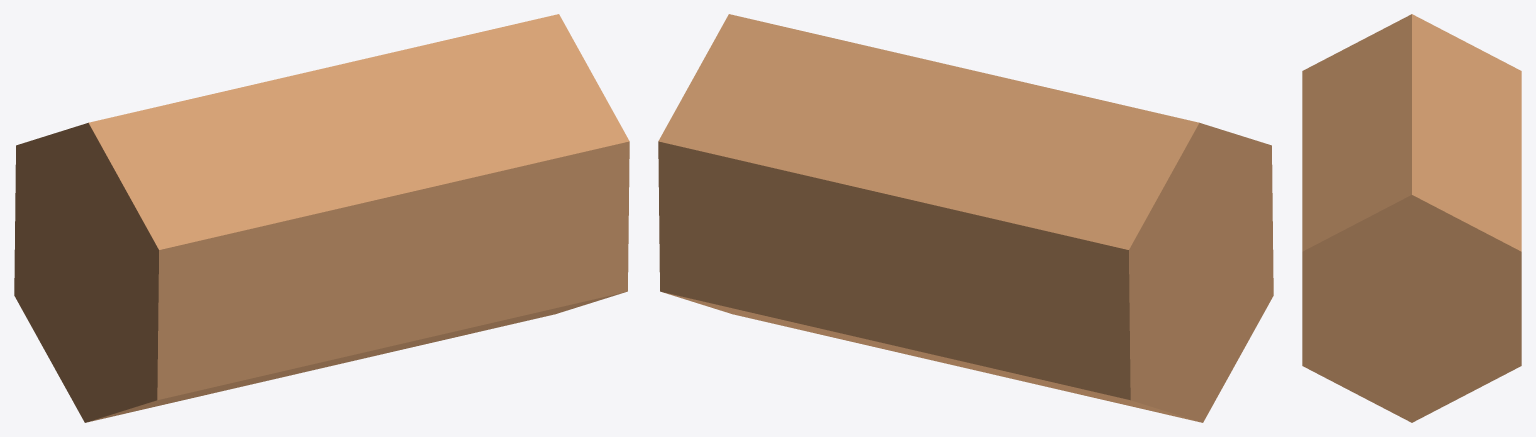
File: wood.fbx
3 views of the same model, side by side, from view 1: azimuth 30°, elevation 25°; view 2: azimuth 150°, elevation 25°; view 3: azimuth 270°, elevation 25° (orthographic). The views are drawn at different scales.
Visible parts, largest first — view 1: pCylinder9; view 2: pCylinder9; view 3: pCylinder9.
Part boxes in pixels (x1,y1,x2,y2): pCylinder9: (14, 14, 629, 422); pCylinder9: (658, 14, 1273, 422); pCylinder9: (1302, 14, 1521, 422).
Size of the model in its own units: 2.48 by 1.53 by 1.3.
